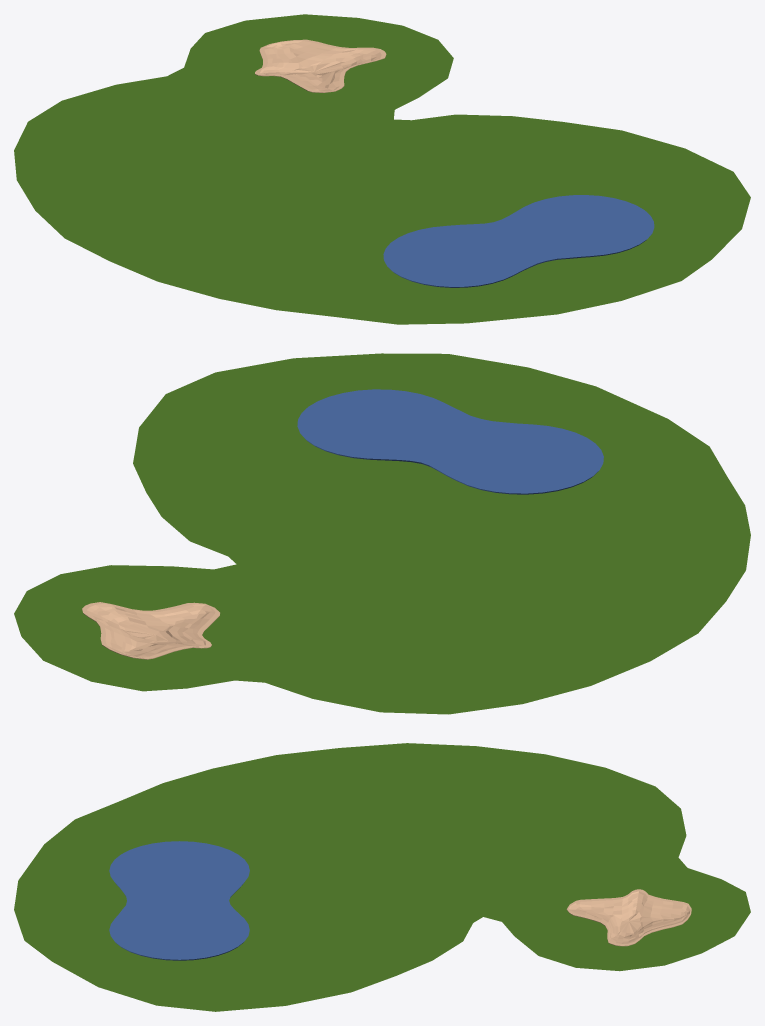
Rendered from Lvl Disgn - Advanced Medium.fbx.
3 views of the same model, one above another, from view 1: azimuth 30°, elevation 25°; view 2: azimuth 150°, elevation 25°; view 3: azimuth 270°, elevation 25° (orthographic). The views are drawn at different scales.
Visible parts, largest first — view 1: Plane, pond, sand pit; view 2: Plane, pond, sand pit; view 3: Plane, pond, sand pit.
Boxes of the visible parts, bbox=[...] form: Plane: bbox=[14, 14, 750, 324]; pond: bbox=[383, 195, 654, 287]; sand pit: bbox=[255, 39, 386, 92]; Plane: bbox=[14, 353, 750, 714]; pond: bbox=[297, 389, 603, 494]; sand pit: bbox=[82, 602, 220, 659]; Plane: bbox=[14, 743, 750, 1011]; pond: bbox=[109, 841, 249, 960]; sand pit: bbox=[566, 889, 691, 946].
Size of the model in its own units: 34974 by 1174 by 40528.
